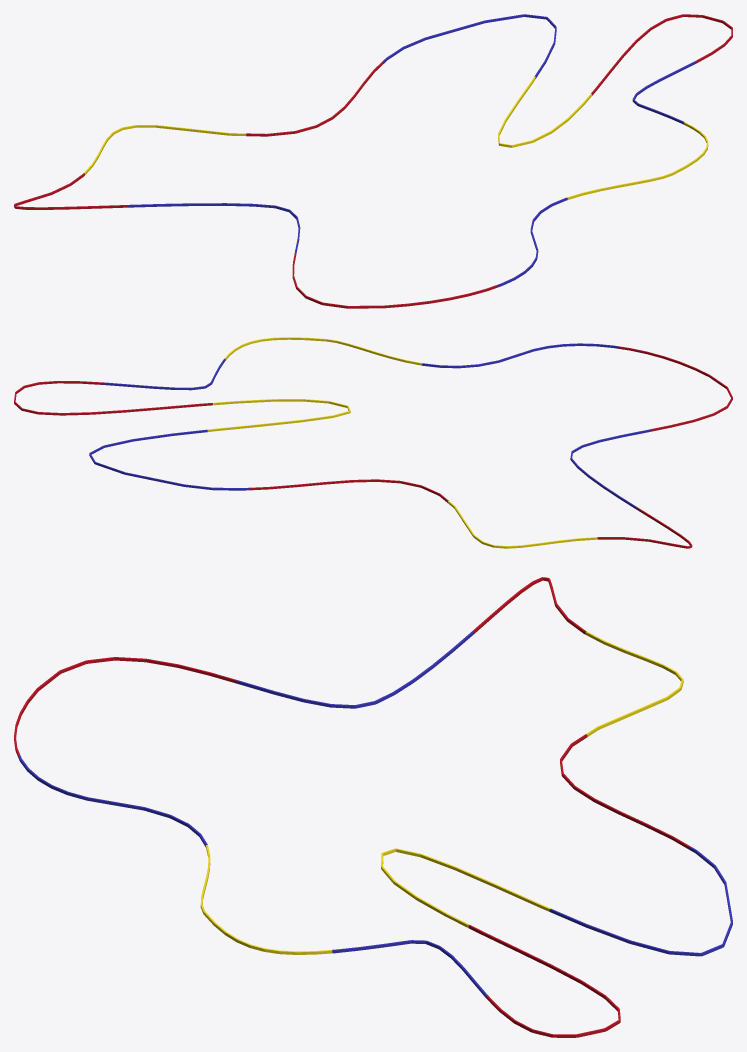
Rendered from colorful_line_v2.dae.
3 renders of one model, top to bottom at view 1: azimuth 30°, elevation 25°; view 2: azimuth 150°, elevation 25°; view 3: azimuth 270°, elevation 25°, orthographic. The views are drawn at different scales.
Visible parts, largest first — view 1: Cube, Cube.007, Cube.005, Cube.011, Cube.010, Cube.003, Cube.009, Cube.006, Cube.008; view 2: Cube.005, Cube.007, Cube.006, Cube, Cube.008, Cube.003, Cube.001, Cube.011, Cube.009, Cube.010, Cube.004; view 3: Cube.005, Cube.006, Cube.007, Cube, Cube.011, Cube.009, Cube.001, Cube.008, Cube.003, Cube.004.
Boxes of the visible parts, x1,y1,x2,y2 form: Cube: [292, 252, 498, 308]; Cube.007: [383, 14, 556, 78]; Cube.005: [591, 14, 732, 95]; Cube.011: [128, 203, 300, 253]; Cube.010: [14, 173, 128, 209]; Cube.003: [567, 122, 708, 199]; Cube.009: [84, 125, 246, 174]; Cube.006: [498, 76, 591, 147]; Cube.008: [246, 61, 383, 136]; Cube.005: [14, 381, 213, 415]; Cube.007: [89, 429, 249, 490]; Cube.006: [207, 399, 350, 431]; Cube: [618, 346, 732, 431]; Cube.008: [248, 479, 448, 502]; Cube.003: [224, 337, 421, 365]; Cube.001: [422, 343, 618, 368]; Cube.011: [570, 429, 651, 509]; Cube.009: [447, 501, 597, 548]; Cube.010: [597, 508, 692, 548]; Cube.004: [103, 358, 225, 390]; Cube.005: [468, 925, 620, 1037]; Cube.006: [381, 848, 550, 927]; Cube.007: [549, 846, 732, 956]; Cube: [14, 657, 239, 757]; Cube.011: [234, 631, 473, 708]; Cube.009: [585, 631, 683, 736]; Cube.001: [18, 755, 207, 847]; Cube.008: [560, 734, 690, 849]; Cube.003: [200, 845, 332, 954]; Cube.004: [332, 940, 487, 997].
Bounding box in the file's own units: 10.83 × 7.18 × 0.0305.
